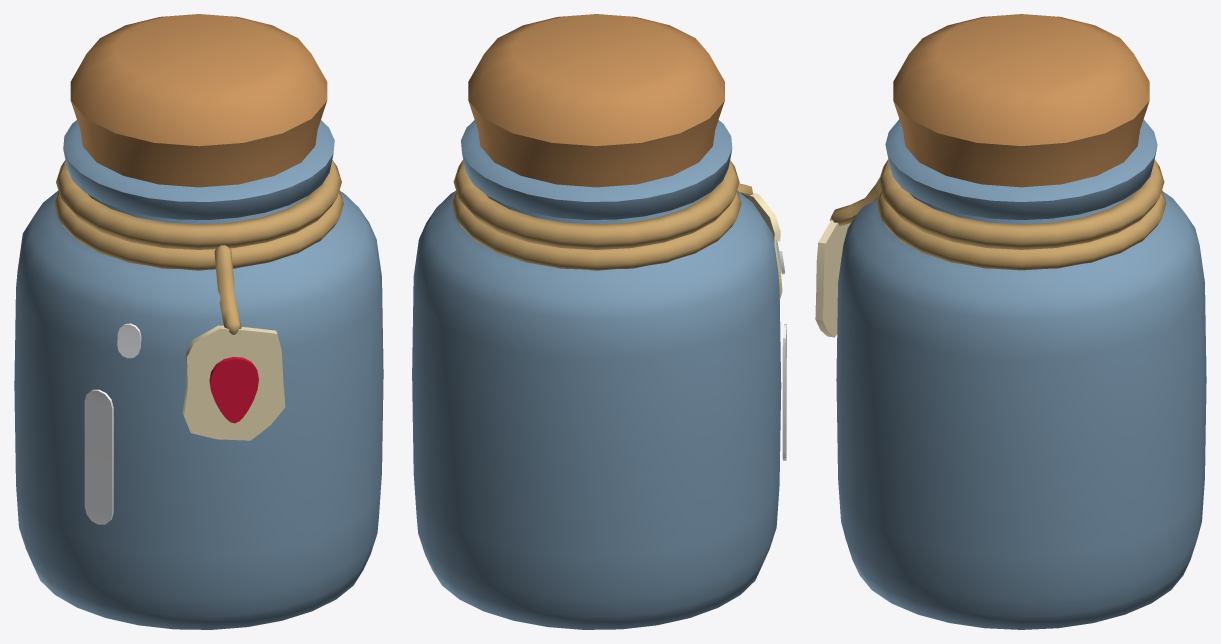
Rendered from item_ember_essence.glb.
3 renders of one model, left to right at view 1: azimuth 30°, elevation 25°; view 2: azimuth 150°, elevation 25°; view 3: azimuth 270°, elevation 25°, orthographic.
Parts seen in each view (by area): view 1: EmberEssence; view 2: EmberEssence; view 3: EmberEssence.
Boxes of the visible parts, bbox=[...] form: EmberEssence: bbox=[14, 14, 383, 629]; EmberEssence: bbox=[412, 14, 786, 629]; EmberEssence: bbox=[815, 14, 1206, 629].
Bounding box in the file's own units: 0.1876 × 0.2909 × 0.1983.
